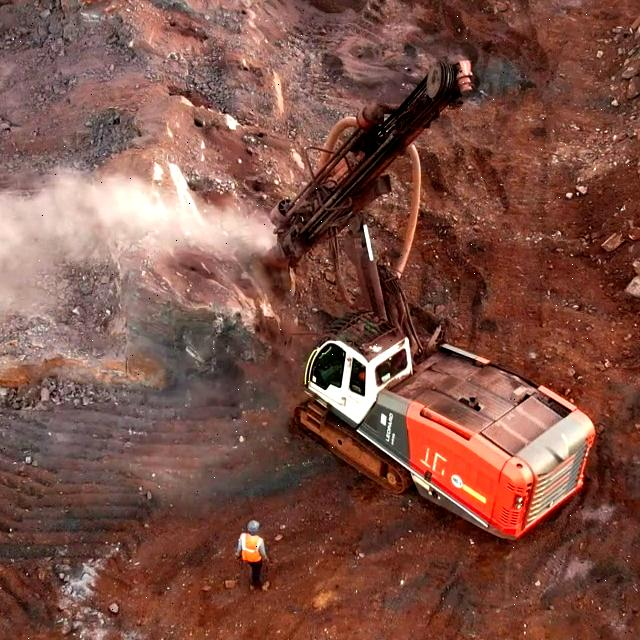Blast rig: (294, 314, 596, 501)
person: (236, 517, 266, 585)
